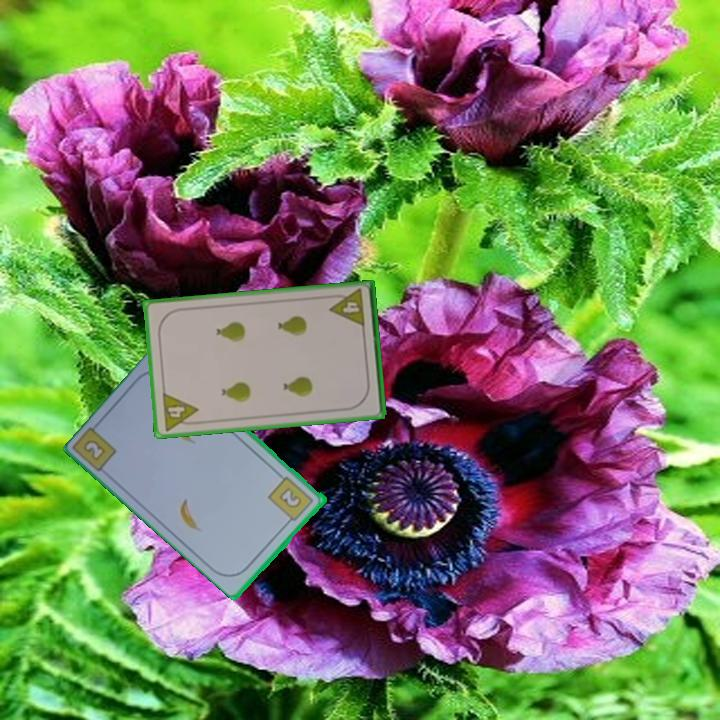2b: (265, 473, 317, 527), (82, 438, 106, 461)
4p: (158, 389, 202, 434), (326, 285, 368, 330)
